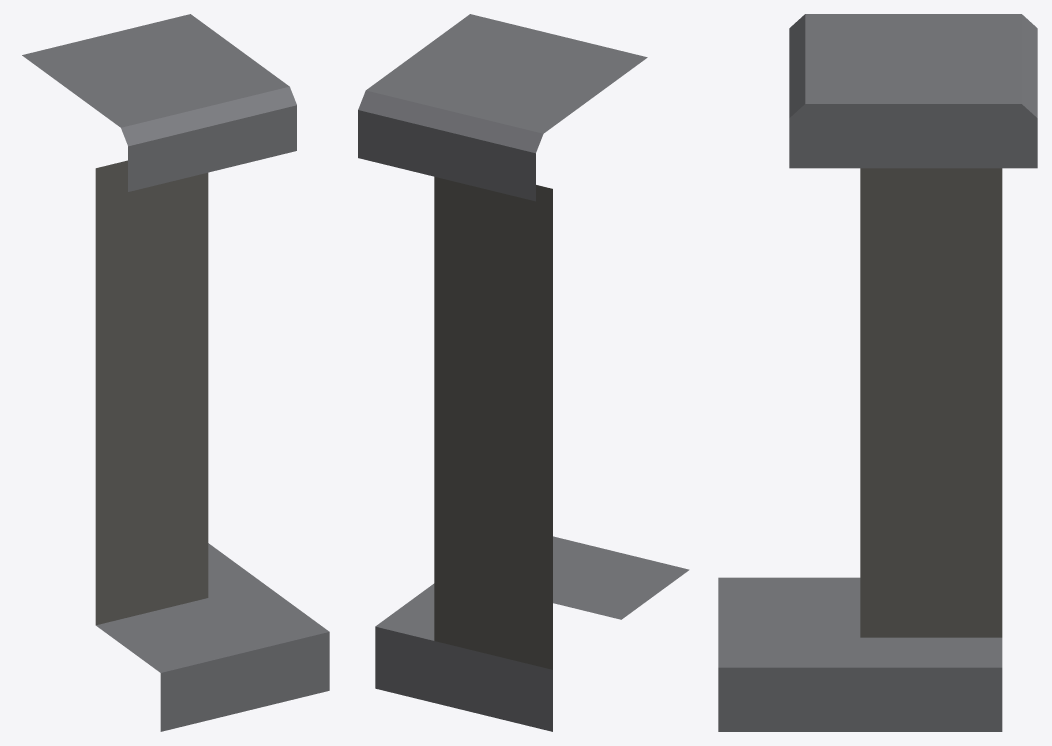
File: SM_Roof_Plug_R.gltf
3 renders of one model, left to right at view 1: azimuth 30°, elevation 25°; view 2: azimuth 150°, elevation 25°; view 3: azimuth 270°, elevation 25°, orthographic. The views are drawn at different scales.
Visible parts, largest first — view 1: SM_Roof_Plug_R; view 2: SM_Roof_Plug_R; view 3: SM_Roof_Plug_R.
Part boxes in pixels (left/top/right/bottom): SM_Roof_Plug_R: left=22, top=14, right=329, bottom=731; SM_Roof_Plug_R: left=358, top=14, right=689, bottom=731; SM_Roof_Plug_R: left=718, top=14, right=1037, bottom=731.
Size of the model in its own units: 0.3 by 0.9755 by 0.45.
Materials: 1 (1 with a texture image).
